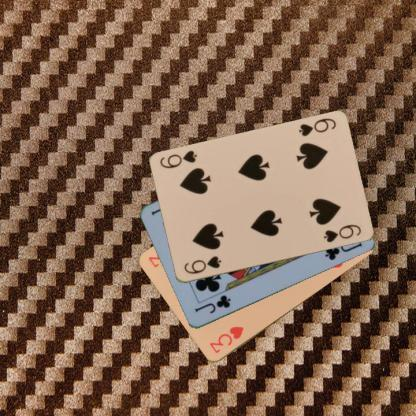3h: (206, 324, 244, 356)
6s: (180, 254, 223, 276), (296, 116, 338, 138)
Jc: (192, 292, 232, 315)
